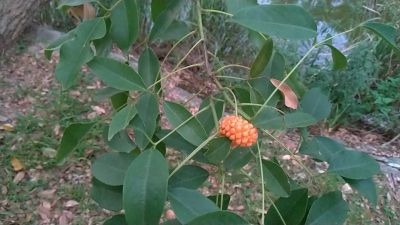eggs: (217, 111, 260, 150)
